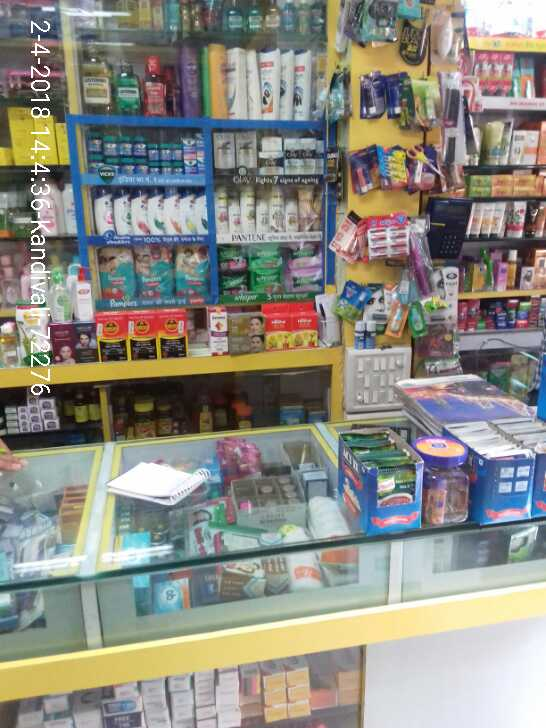vicks: (87, 133, 184, 180), (184, 132, 209, 180)
